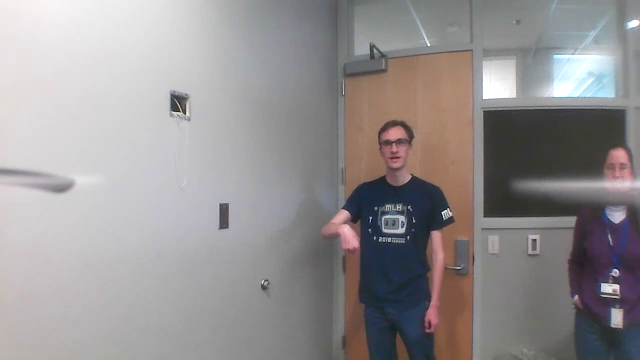down: (335, 219, 362, 268)
